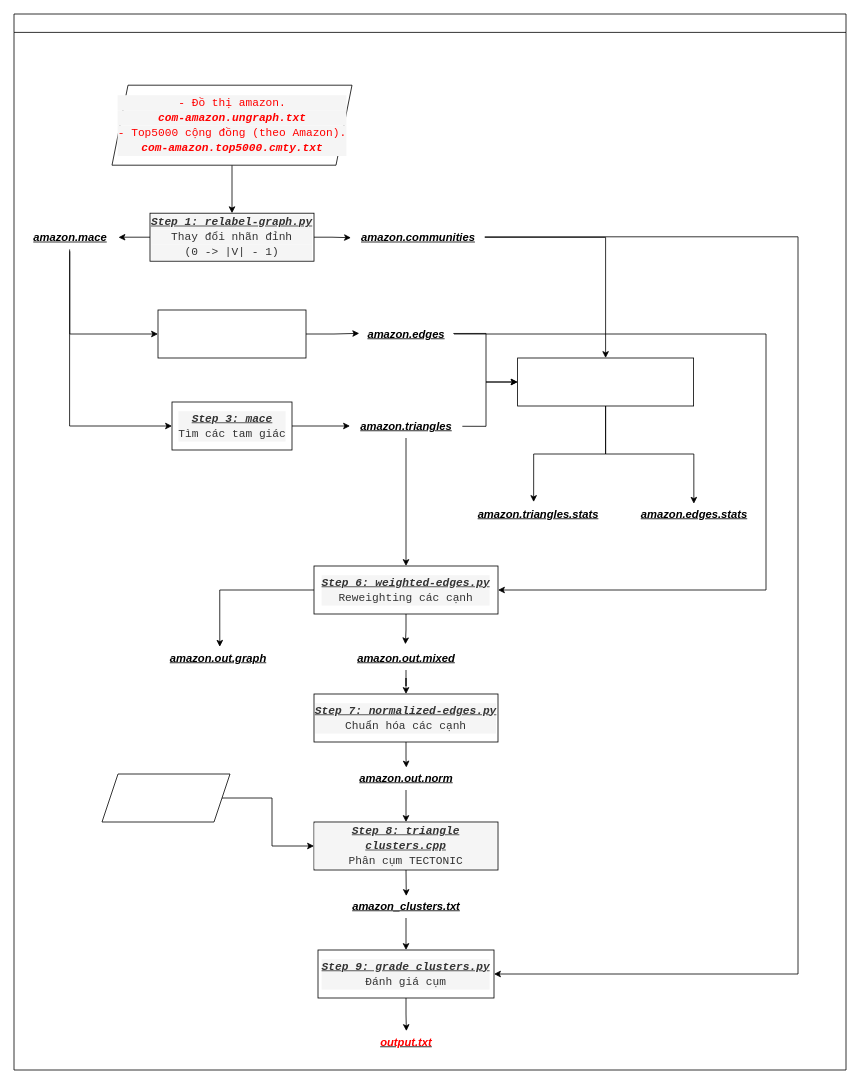
This 860x1084 diagram has some shape labels left out. Each missing label, with the centre of its shape:
numbers_of_nodes threshold_value: (x=165, y=797)
Step 2: mace-to-list.py Tìm các cạnh: (x=231, y=333)
Step 4-5: community-stats.py Thống kê cạnh và tam giác: (x=605, y=381)
